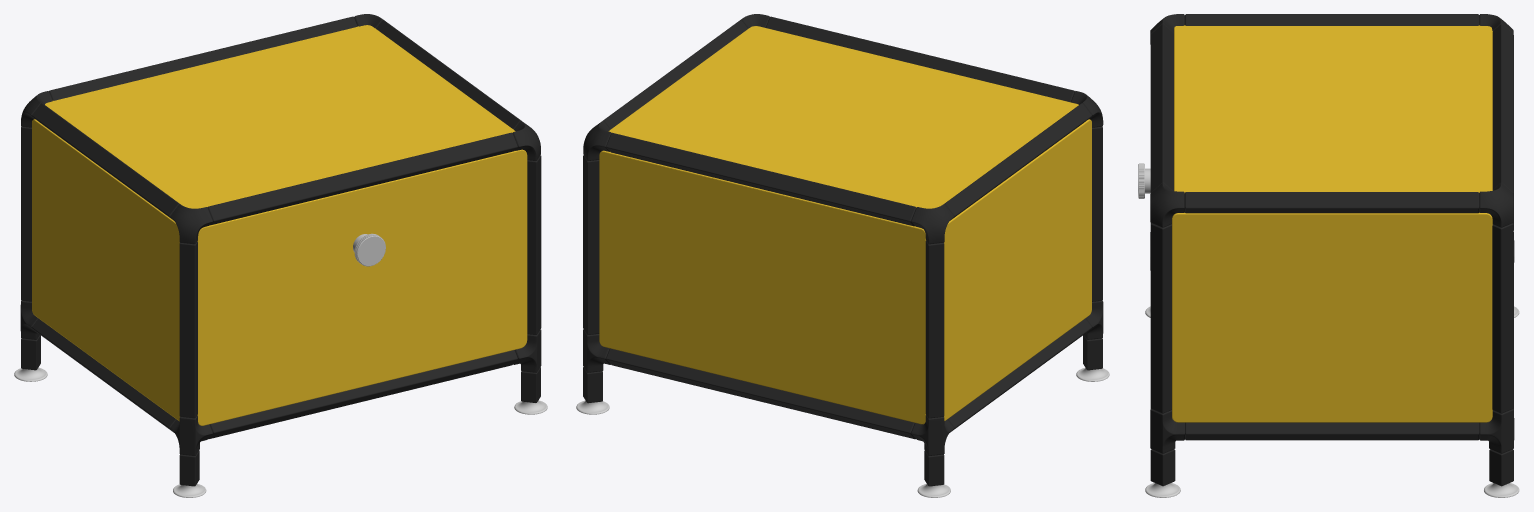
3 renders of one model, left to right at view 1: azimuth 30°, elevation 25°; view 2: azimuth 150°, elevation 25°; view 3: azimuth 270°, elevation 25°, orthographic. The views are drawn at different scales.
Visible parts, largest first — view 1: 420x329x229; view 2: 420x329x229; view 3: 420x329x229.
Part boxes in pixels (x1=…): 420x329x229: x1=14, y1=14, x2=547, y2=497; 420x329x229: x1=576, y1=14, x2=1109, y2=497; 420x329x229: x1=1138, y1=14, x2=1519, y2=497.
Bounding box in the file's own units: 0.5099 × 0.3683 × 0.4257.
